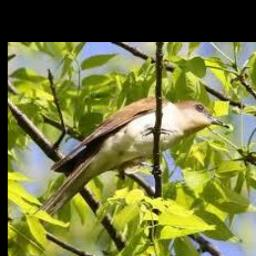Cuckoo: (32, 98, 229, 231)
